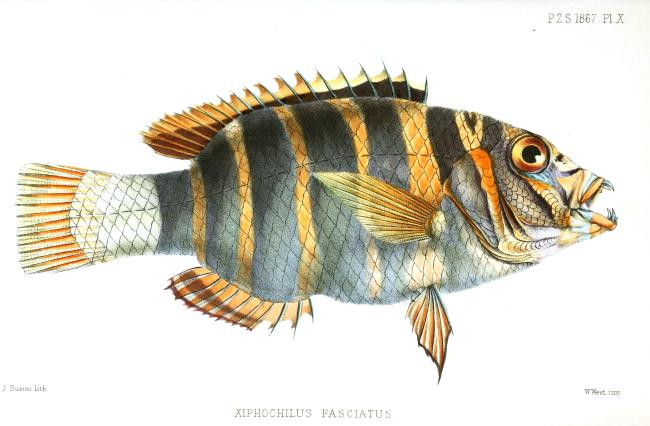fish: (16, 61, 618, 385)
